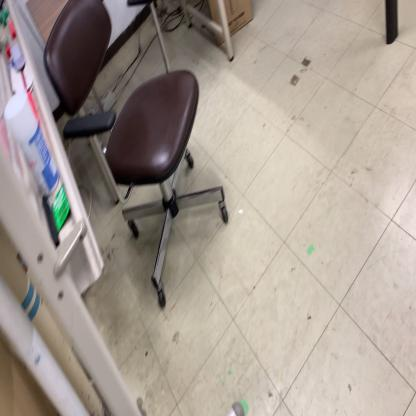chair: (51, 0, 235, 298)
